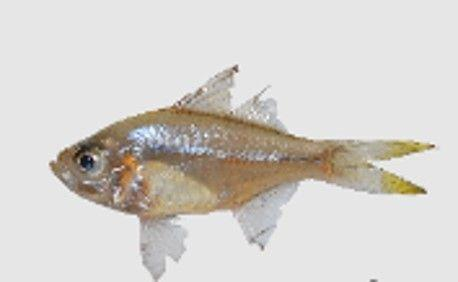Glass Perchlet: (49, 61, 441, 281)
